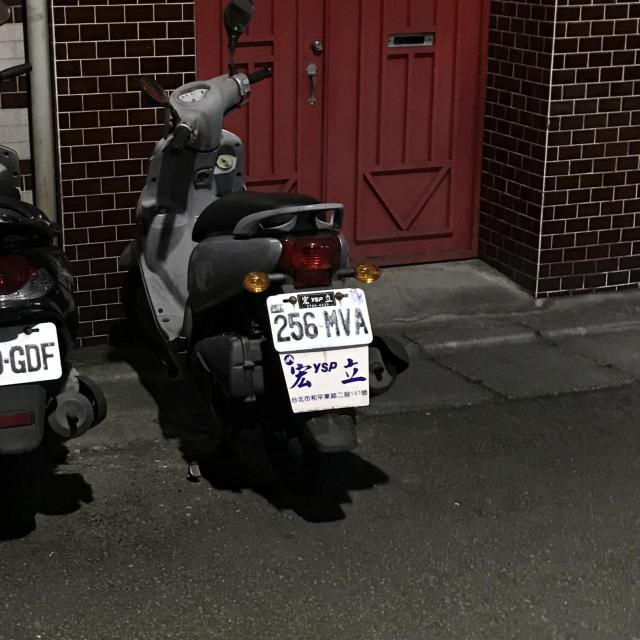W: (264, 286, 373, 354), (0, 320, 67, 393)
